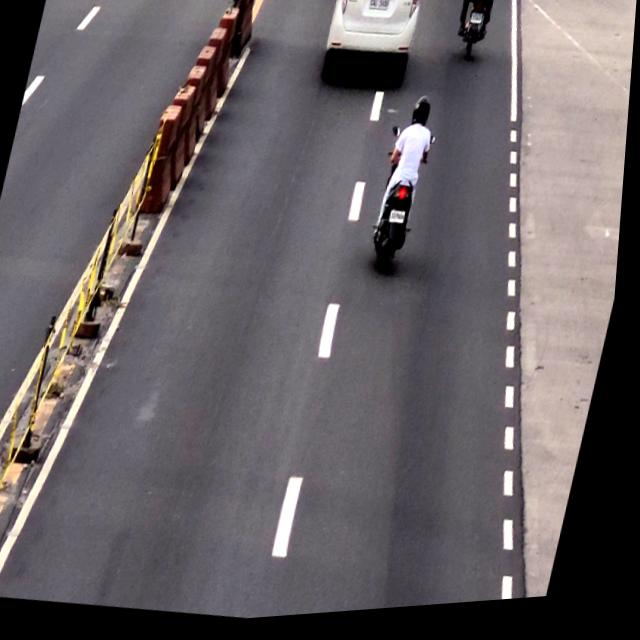Car: (317, 0, 427, 100)
License-Plate: (368, 0, 393, 21), (392, 212, 411, 231)
Motorcycle: (366, 100, 446, 280), (450, 0, 496, 67)
